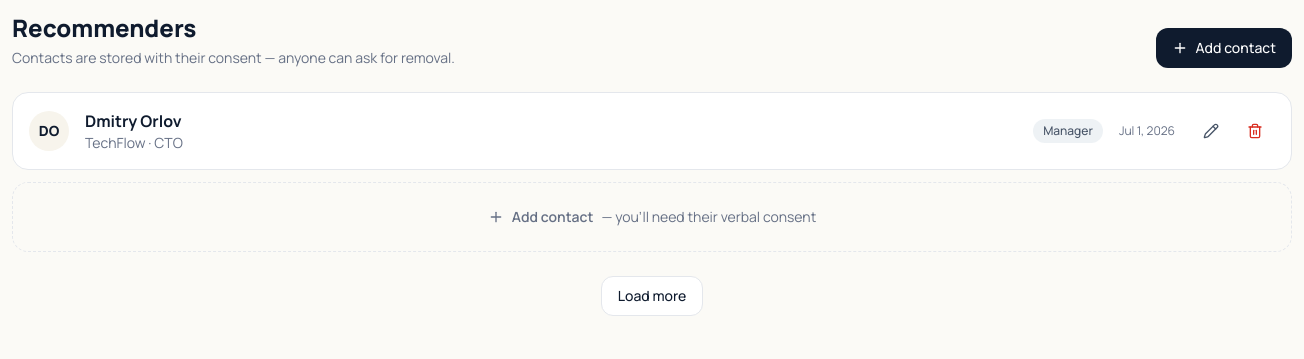
ContactsPage › loads the next page with the cursor and appends items
This screenshot has width=1304, height=359.
Expected: the text "Dmitry Orlov" is shown, top-left (85, 110), bottom-right (182, 132)
Click the button "Load more". click: [652, 296]
box: top-left (601, 276), bottom-right (703, 316)
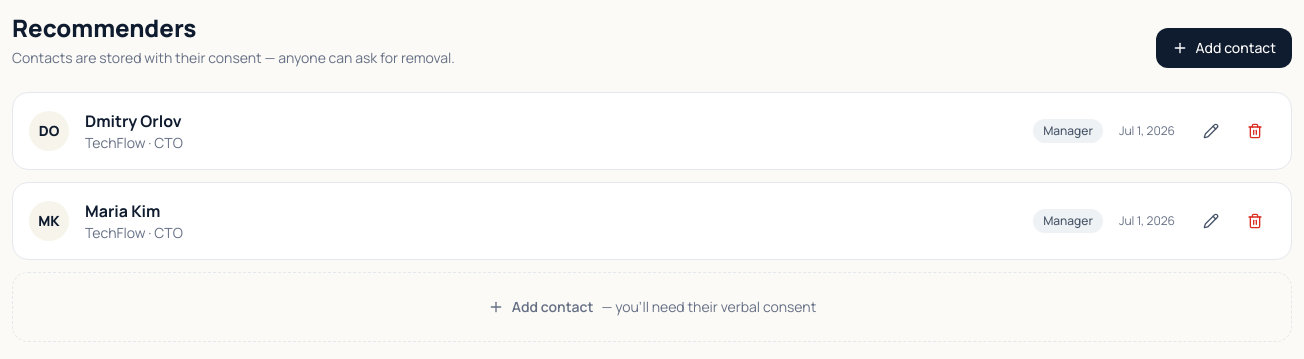
Expected: the text "Dmitry Orlov" is shown, top-left (85, 110), bottom-right (182, 132)
Expected: the text "Maria Kim" is shown, top-left (85, 200), bottom-right (160, 222)
Expected: the button "Load more" is gone
